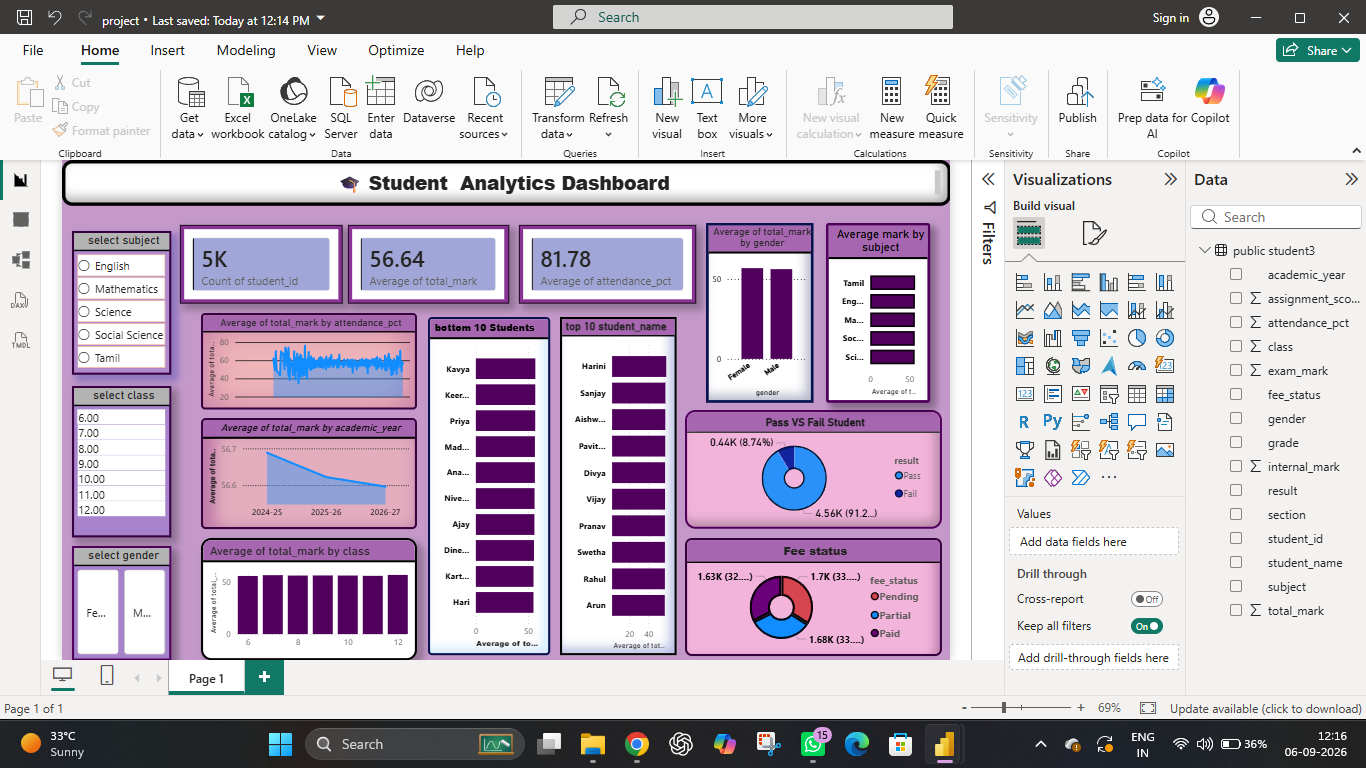

The page's visual inventory and layout, read from the dashboard file:
{"tool":"powerbi","page":{"name":"Page 1","canvas":[1280,720],"ordinal":0},"visuals":[{"type":"cardVisual","fields":{"Data":["Count(public student3.student_id)"]},"box":[169.7,94.1,234,113],"z":0},{"type":"cardVisual","title":"average of total mark","fields":{"Data":["Avg(public student3.total_mark)"]},"box":[411.5,94.1,231.8,113],"z":1000},{"type":"cardVisual","fields":{"Data":["Avg(public student3.attendance_pct)"]},"box":[658.5,94.1,255.3,113],"z":2000},{"type":"donutChart","title":"Pass VS Fail Student","fields":{"Category":["public student3.result"],"Y":["CountNonNull(public student3.student_id)"]},"box":[897,359.5,369.6,171.3],"z":3000},{"type":"clusteredColumnChart","fields":{"Category":["public student3.class"],"Y":["Avg(public student3.total_mark)"]},"box":[199.9,544.3,310.8,176.4],"z":4000},{"type":"clusteredBarChart","title":"Average mark by subject","fields":{"Category":["public student3.subject"],"Y":["Avg(public student3.total_mark)"]},"box":[1100.3,90.7,149.5,258.7],"z":5000},{"type":"clusteredColumnChart","fields":{"Category":["public student3.gender"],"Y":["Avg(public student3.total_mark)"]},"box":[927.2,90.7,154.5,258.7],"z":6000},{"type":"lineChart","fields":{"Category":["public student3.academic_year"],"Y":["Avg(public student3.total_mark)"]},"box":[199.9,371.2,310.8,159.6],"z":7000},{"type":"donutChart","title":"Fee status","fields":{"Category":["public student3.fee_status"],"Y":["CountNonNull(public student3.student_id)"]},"box":[897,544.3,369.6,169.7],"z":8000},{"type":"areaChart","fields":{"Category":["public student3.attendance_pct"],"Y":["Avg(public student3.total_mark)"]},"box":[199.9,220.1,310.8,139.4],"z":9000},{"type":"clusteredBarChart","title":"top 10 student_name","fields":{"Category":["public student3.student_name"],"Y":["Avg(public student3.total_mark)"]},"box":[717.3,226.8,168,487.1],"z":10000},{"type":"listSlicer","title":" select class","fields":{"Values":["public student3.class"]},"box":[15.1,325.9,142.8,218.4],"z":11000},{"type":"listSlicer","title":" select subject","fields":{"Values":["public student3.subject"]},"box":[15.1,102.5,142.8,206.6],"z":12000},{"type":"advancedSlicerVisual","title":" select gender","fields":{"Values":["public student3.gender"]},"box":[15.1,556,142.8,164.6],"z":13000},{"type":"barChart","title":"bottom 10 Students","fields":{"Category":["public student3.student_name"],"Y":["Avg(public student3.total_mark)"]},"box":[527.5,226.8,176.4,487.1],"z":14000},{"type":"textbox","box":[0,0,1280,65.5],"z":15000}]}

Visuals, with their boxes on the page's 1280x720 design canvas (x1, y1, x2, y2). These are canvas units, not pixel positions in the 1366x768 screenshot, which may show the page scaled, cropped or inside an application window:
cardVisual - Count(public student3.student_id): region(170, 94, 404, 207)
"average of total mark" cardVisual: region(412, 94, 643, 207)
cardVisual - Avg(public student3.attendance_pct): region(658, 94, 914, 207)
"Pass VS Fail Student" donutChart: region(897, 360, 1267, 531)
clusteredColumnChart - public student3.class x Avg(public student3.total_mark): region(200, 544, 511, 721)
"Average mark by subject" clusteredBarChart: region(1100, 91, 1250, 349)
clusteredColumnChart - public student3.gender x Avg(public student3.total_mark): region(927, 91, 1082, 349)
lineChart - public student3.academic_year x Avg(public student3.total_mark): region(200, 371, 511, 531)
"Fee status" donutChart: region(897, 544, 1267, 714)
areaChart - public student3.attendance_pct x Avg(public student3.total_mark): region(200, 220, 511, 360)
"top 10 student_name" clusteredBarChart: region(717, 227, 885, 714)
" select class" listSlicer: region(15, 326, 158, 544)
" select subject" listSlicer: region(15, 102, 158, 309)
" select gender" advancedSlicerVisual: region(15, 556, 158, 721)
"bottom 10 Students" barChart: region(528, 227, 704, 714)
textbox: region(0, 0, 1280, 66)
